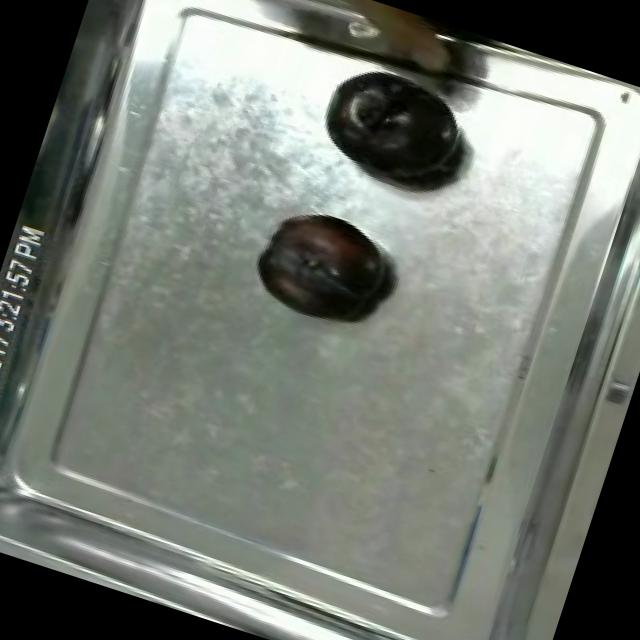Fruit: (306, 65, 479, 206), (242, 198, 404, 340)
